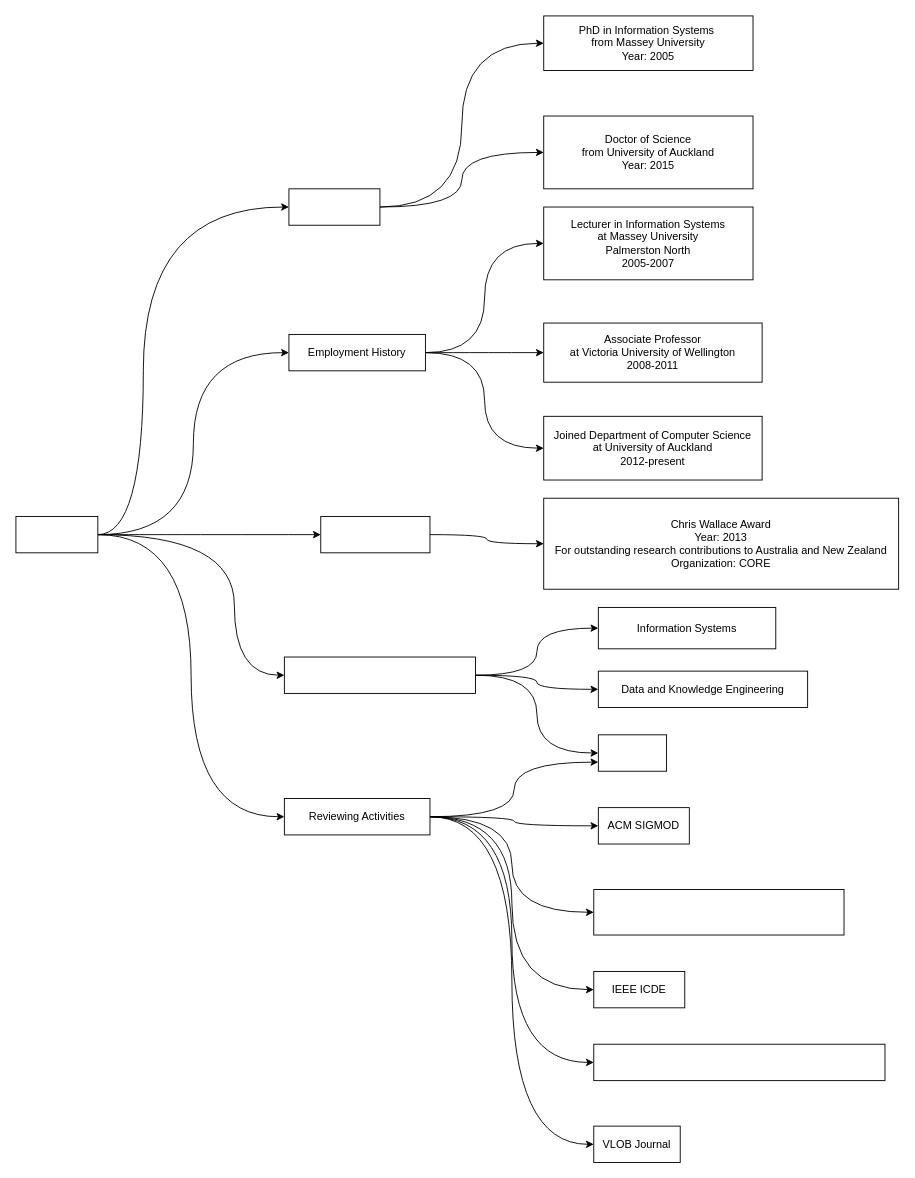
Some shapes in this 915 by 1178 pixel diagram are drawn without their labels. The centre of each missing label's shape, as x and y in pixels:
ACM Transactions on Database System: pixel 718 912
Awards: pixel 375 534
Editorial Board Memberships: pixel 379 674
Education: pixel 334 206
IEEE Transaction on Knowledge and Data Engineering: pixel 739 1062
Sebastian: pixel 56 534
VLOB: pixel 632 752
